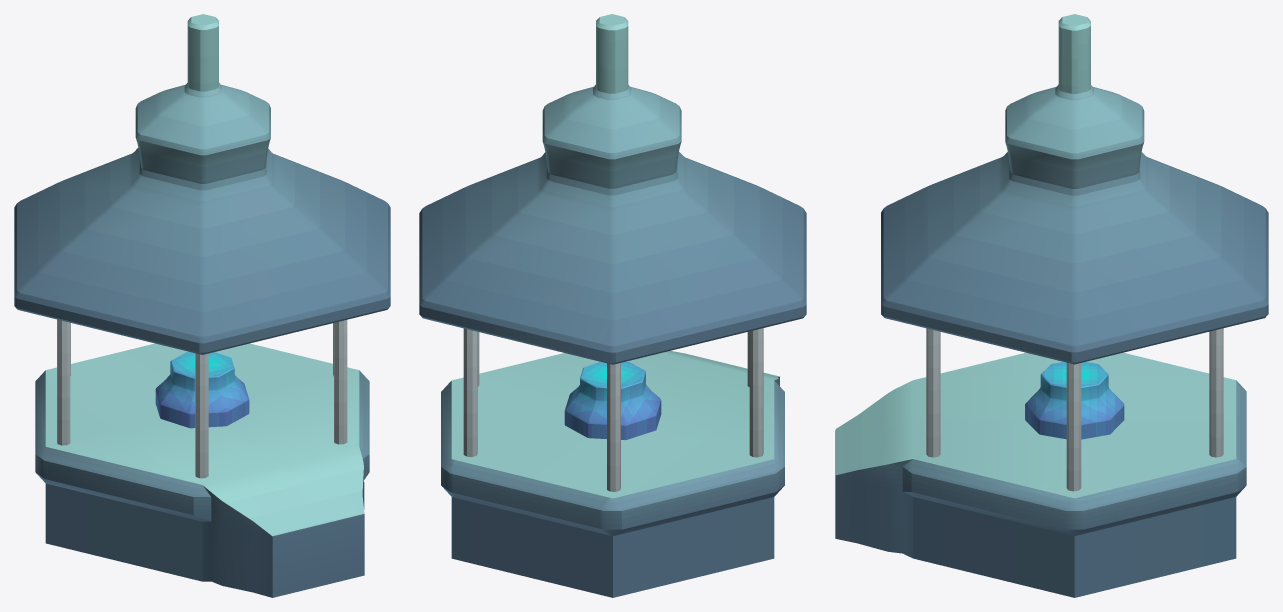
File: temple.fbx
3 views of the same model, side by side, from view 1: azimuth 30°, elevation 25°; view 2: azimuth 150°, elevation 25°; view 3: azimuth 270°, elevation 25° (orthographic). The views are drawn at different scales.
Parts seen in each view (by area): view 1: Cylinder.001; view 2: Cylinder.001; view 3: Cylinder.001.
Part boxes in pixels (box(x1,y1,x2,y2)): Cylinder.001: box(14, 14, 390, 597); Cylinder.001: box(419, 14, 806, 597); Cylinder.001: box(835, 14, 1268, 597).
Bounding box in the file's own units: 496 × 616 × 484.
